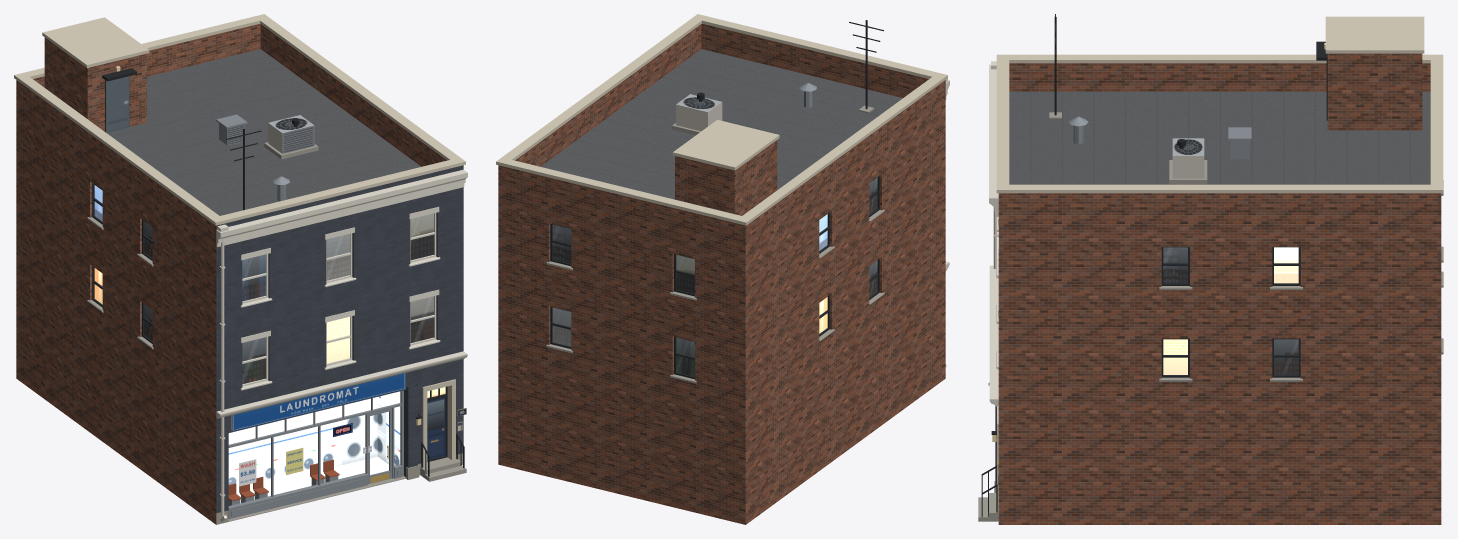
File: Laundromat.fbx
3 views of the same model, side by side, from view 1: azimuth 30°, elevation 25°; view 2: azimuth 150°, elevation 25°; view 3: azimuth 270°, elevation 25° (orthographic). The views are drawn at different scales.
Visible parts, largest first — view 1: Laundromat_Mesh; view 2: Laundromat_Mesh; view 3: Laundromat_Mesh.
Part boxes in pixels (bbox=[...]): Laundromat_Mesh: bbox=[14, 14, 467, 524]; Laundromat_Mesh: bbox=[496, 14, 949, 524]; Laundromat_Mesh: bbox=[978, 14, 1443, 524].
Size of the model in its own units: 10.17 by 14.06 by 14.71.
